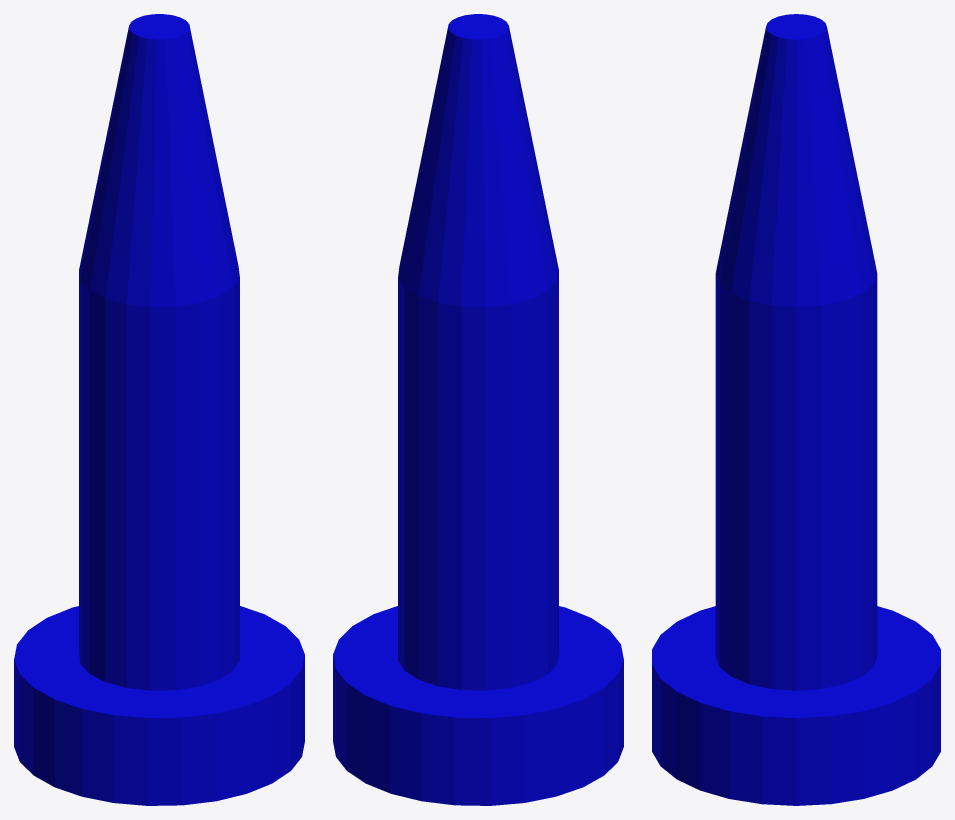
Rendered from blue_marker_nun.dae.
3 renders of one model, left to right at view 1: azimuth 30°, elevation 25°; view 2: azimuth 150°, elevation 25°; view 3: azimuth 270°, elevation 25°, orthographic.
Visible parts, largest first — view 1: ShapeIndexedFaceSet; view 2: ShapeIndexedFaceSet; view 3: ShapeIndexedFaceSet.
Part boxes in pixels (x1,y1,x2,y2): ShapeIndexedFaceSet: (14, 14, 304, 805); ShapeIndexedFaceSet: (333, 14, 623, 805); ShapeIndexedFaceSet: (652, 14, 940, 805).
Bounding box in the file's own units: 0.4572 × 0.4539 × 1.24.
